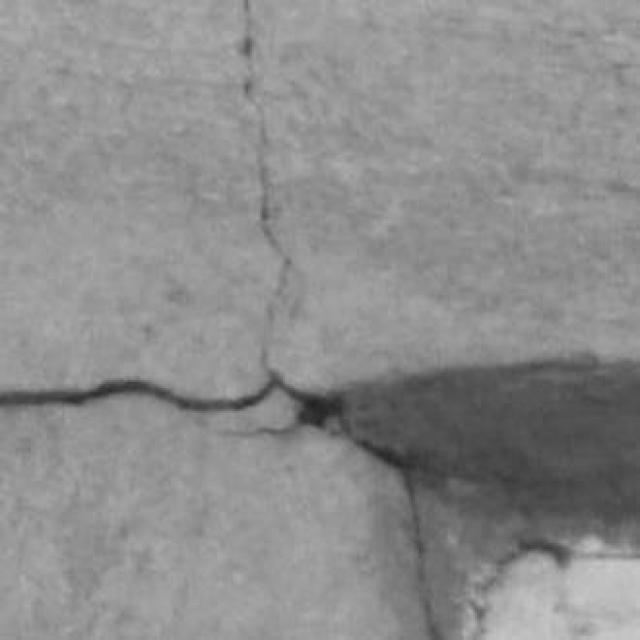crack: (301, 365, 638, 628), (241, 0, 300, 374), (466, 540, 572, 639), (0, 379, 277, 413), (400, 472, 444, 639)
